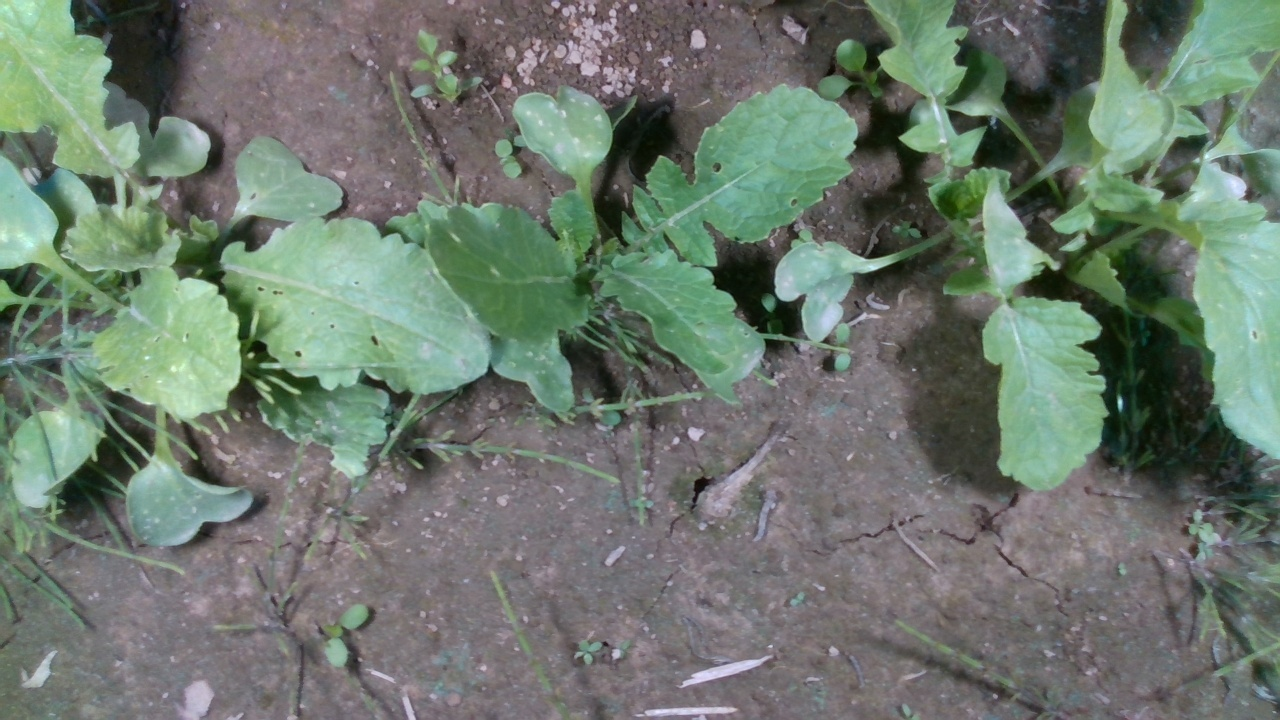weed: (570, 637, 602, 666), (611, 635, 632, 664), (1115, 560, 1129, 581)
